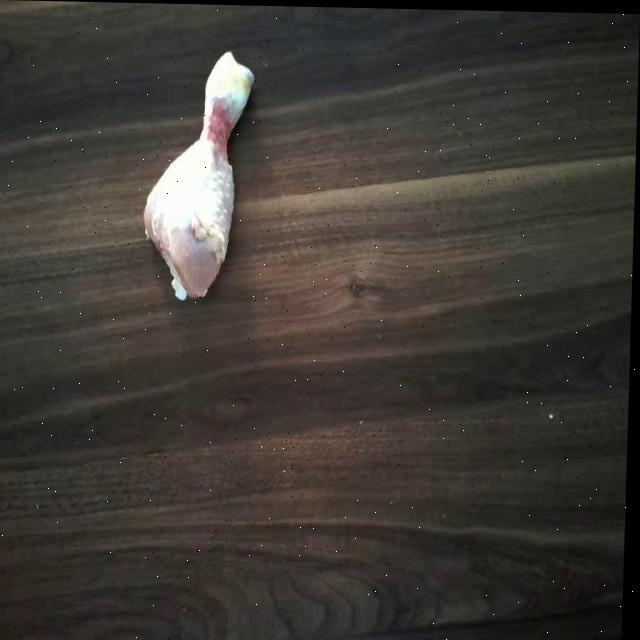leg: (144, 46, 254, 299)
